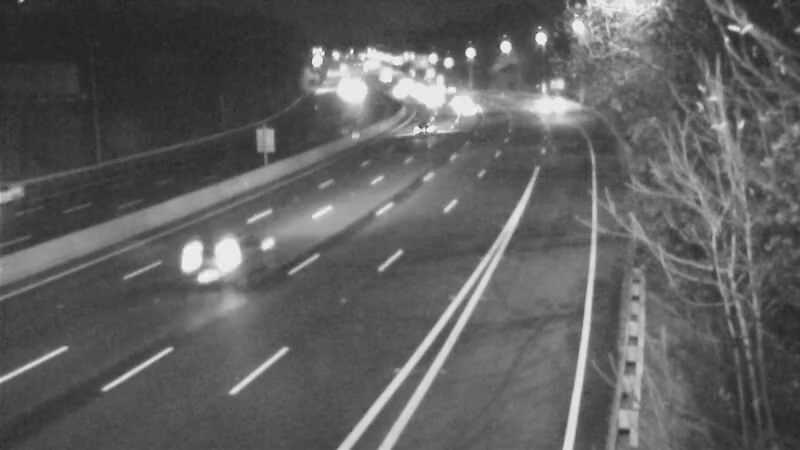vehicle: (181, 213, 261, 293), (1, 153, 68, 233), (510, 75, 560, 125), (433, 74, 483, 124), (439, 87, 489, 137), (395, 103, 445, 153)
